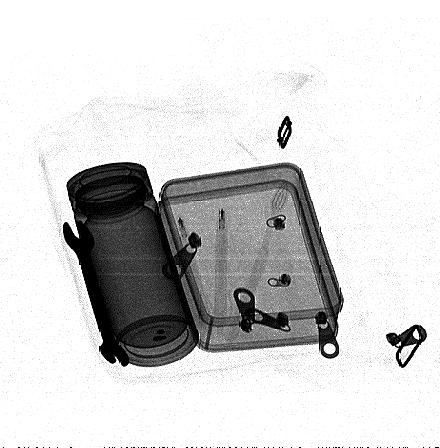Wrench: (62, 219, 130, 368)
